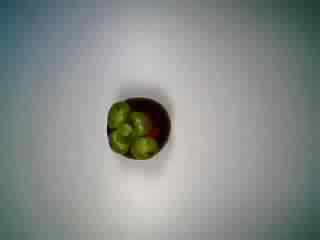mangosteen: (98, 87, 174, 162)
